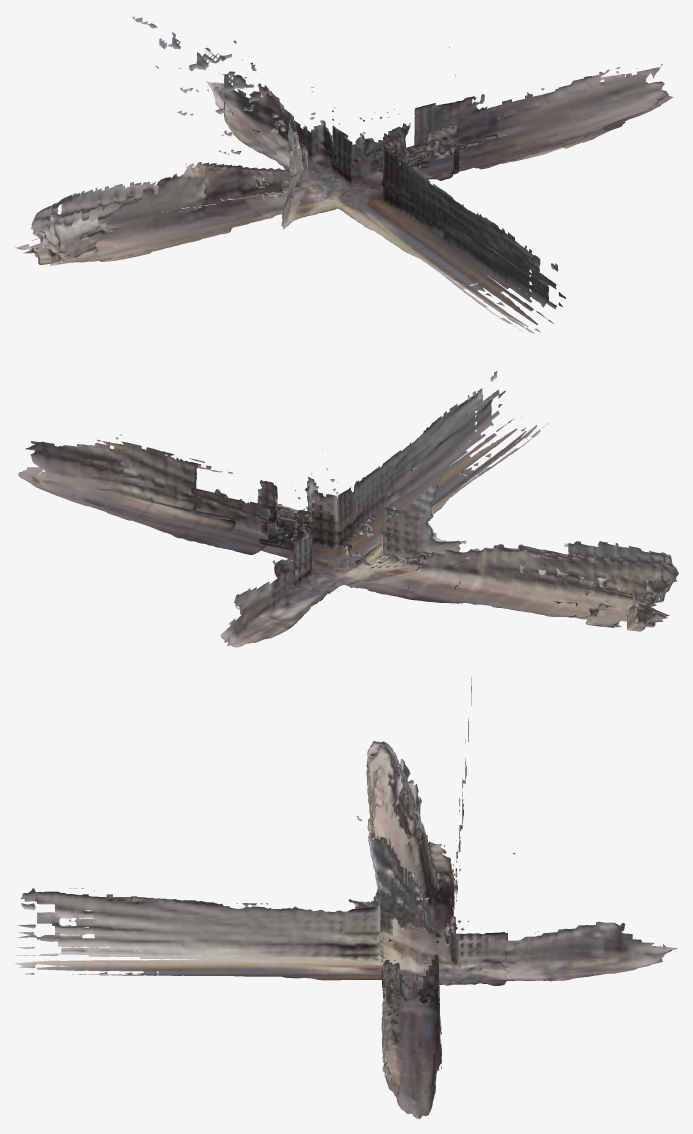
The model's file is War-torn City Street_collider.glb.
The picture shows the model from 3 angles, top to bottom: view 1: azimuth 30°, elevation 25°; view 2: azimuth 150°, elevation 25°; view 3: azimuth 270°, elevation 25°; orthographic projection. The views are drawn at different scales.
Parts seen in each view (by area): view 1: world; view 2: world; view 3: world.
Part boxes in pixels (x1=…): world: x1=15, y1=16, x2=673, y2=333; world: x1=18, y1=371, x2=678, y2=647; world: x1=14, y1=677, x2=677, y2=1119.
Bounding box in the file's own units: 201 × 60.26 × 172.
